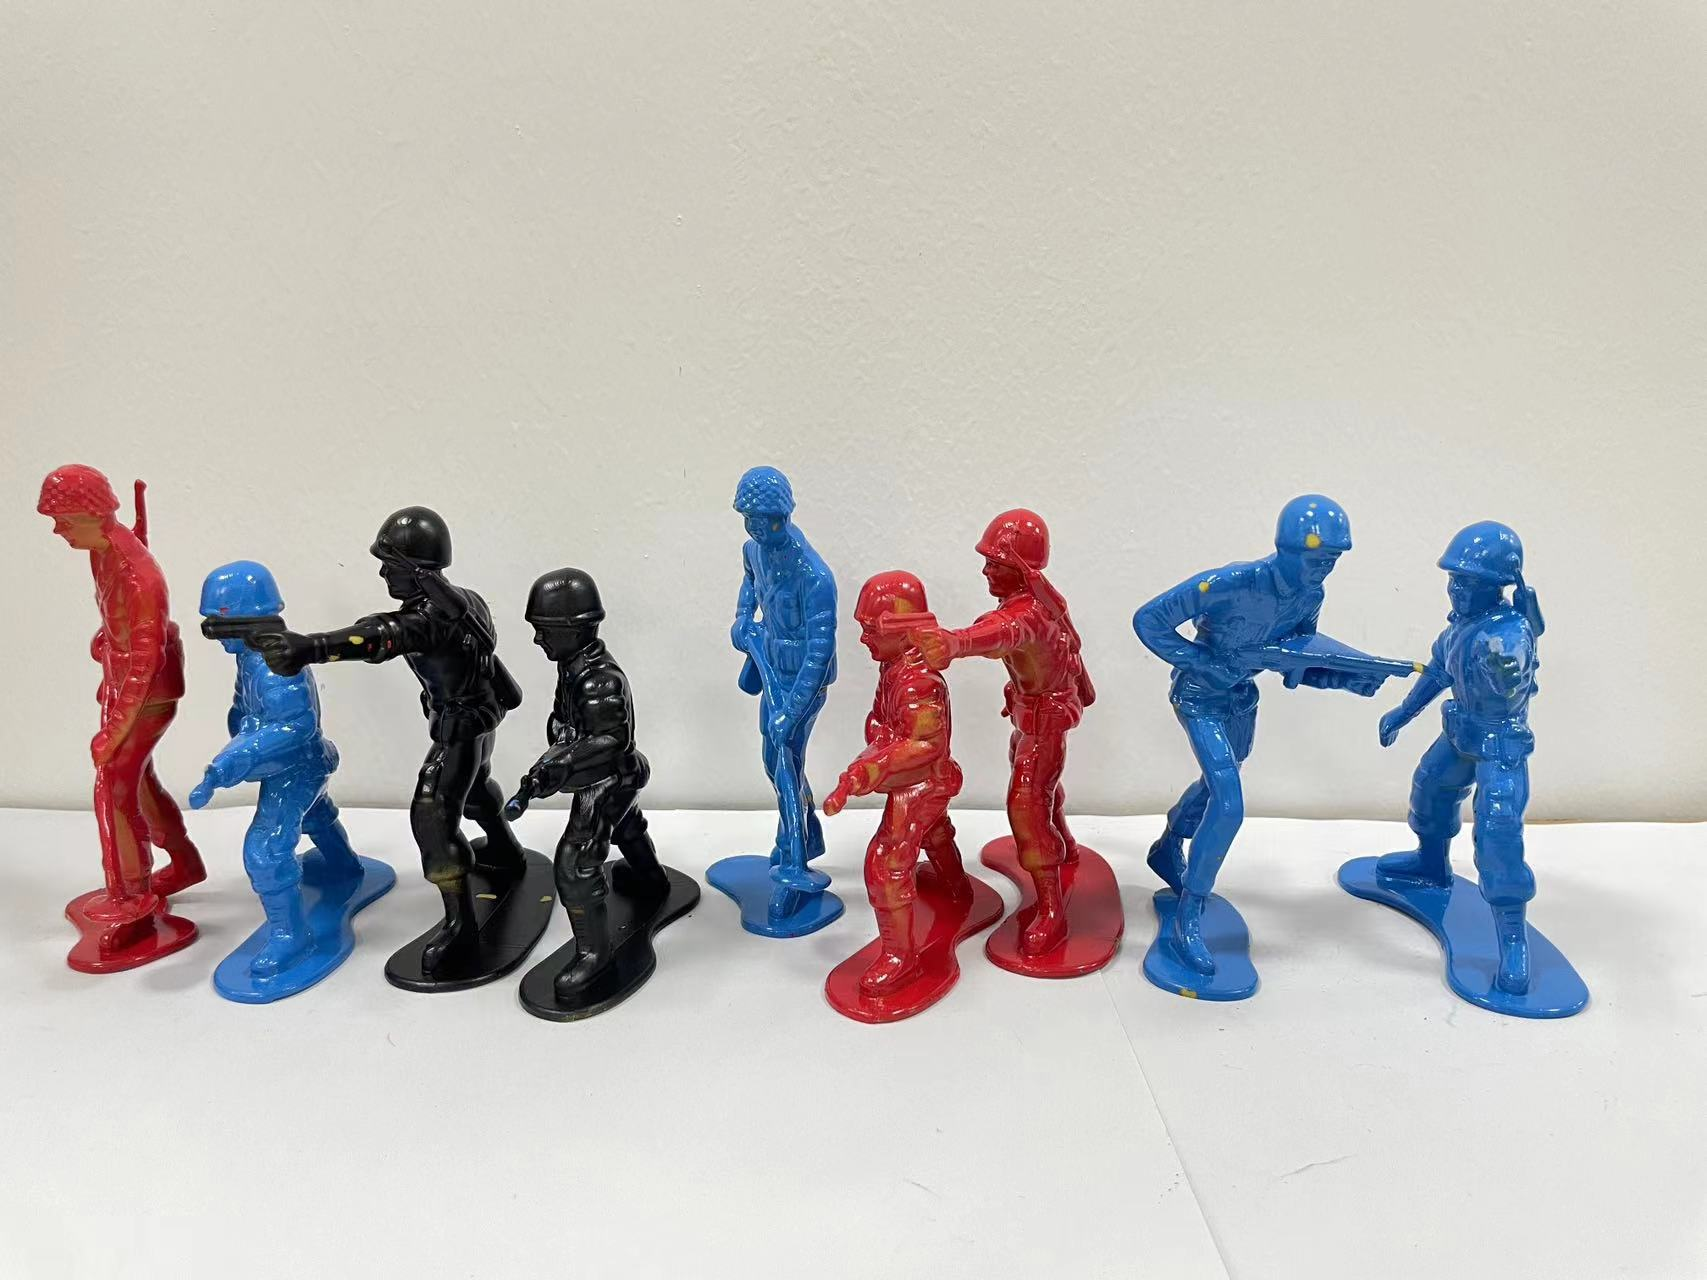black: (333, 481, 542, 1016), (508, 558, 700, 1055)
blue: (1125, 484, 1386, 1026), (1374, 512, 1641, 1025), (690, 448, 860, 960), (188, 545, 344, 1031)
red: (22, 430, 214, 1008), (940, 484, 1128, 1033), (802, 565, 987, 1041)
